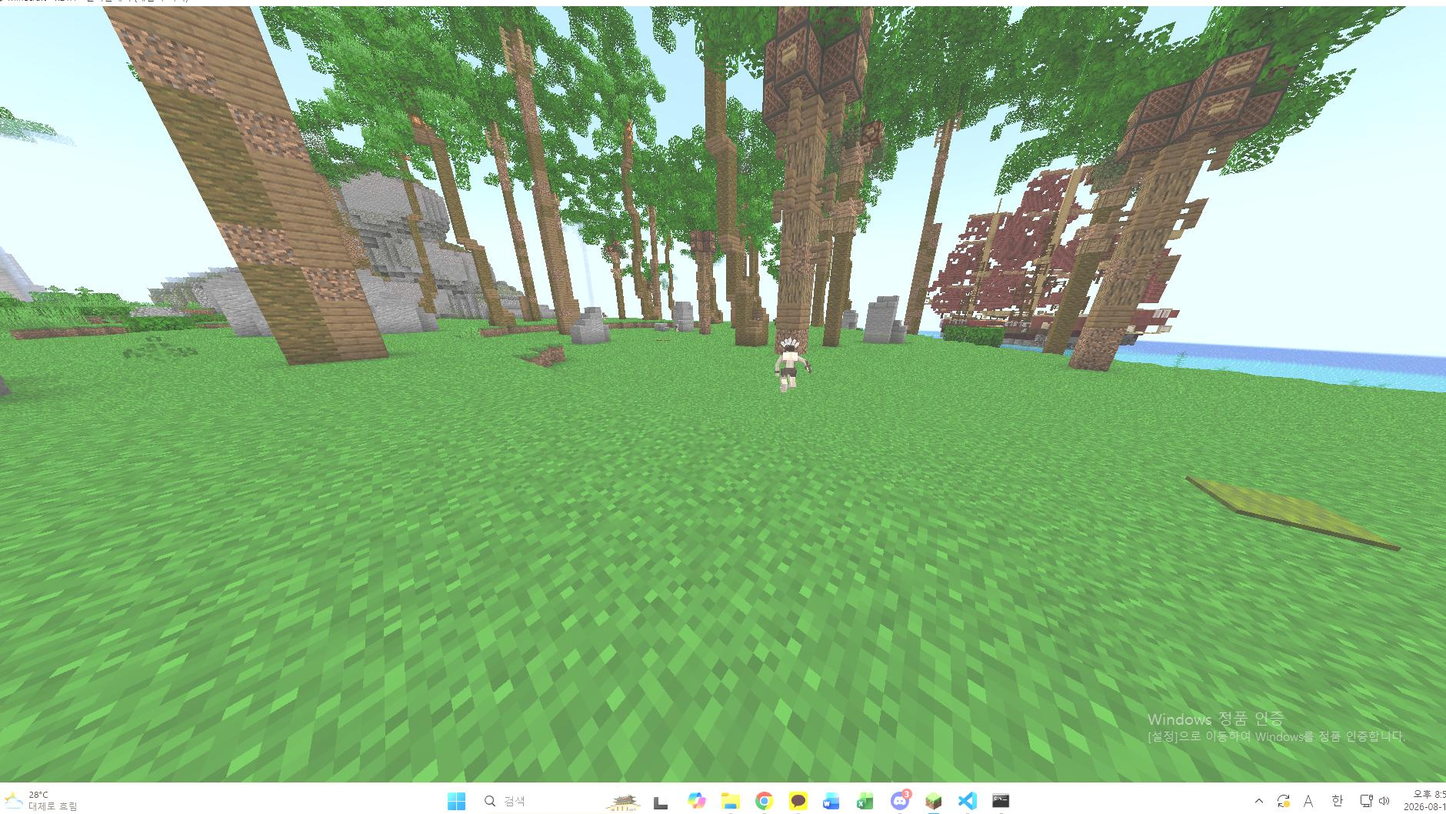bow_indian: (771, 334, 813, 405)
